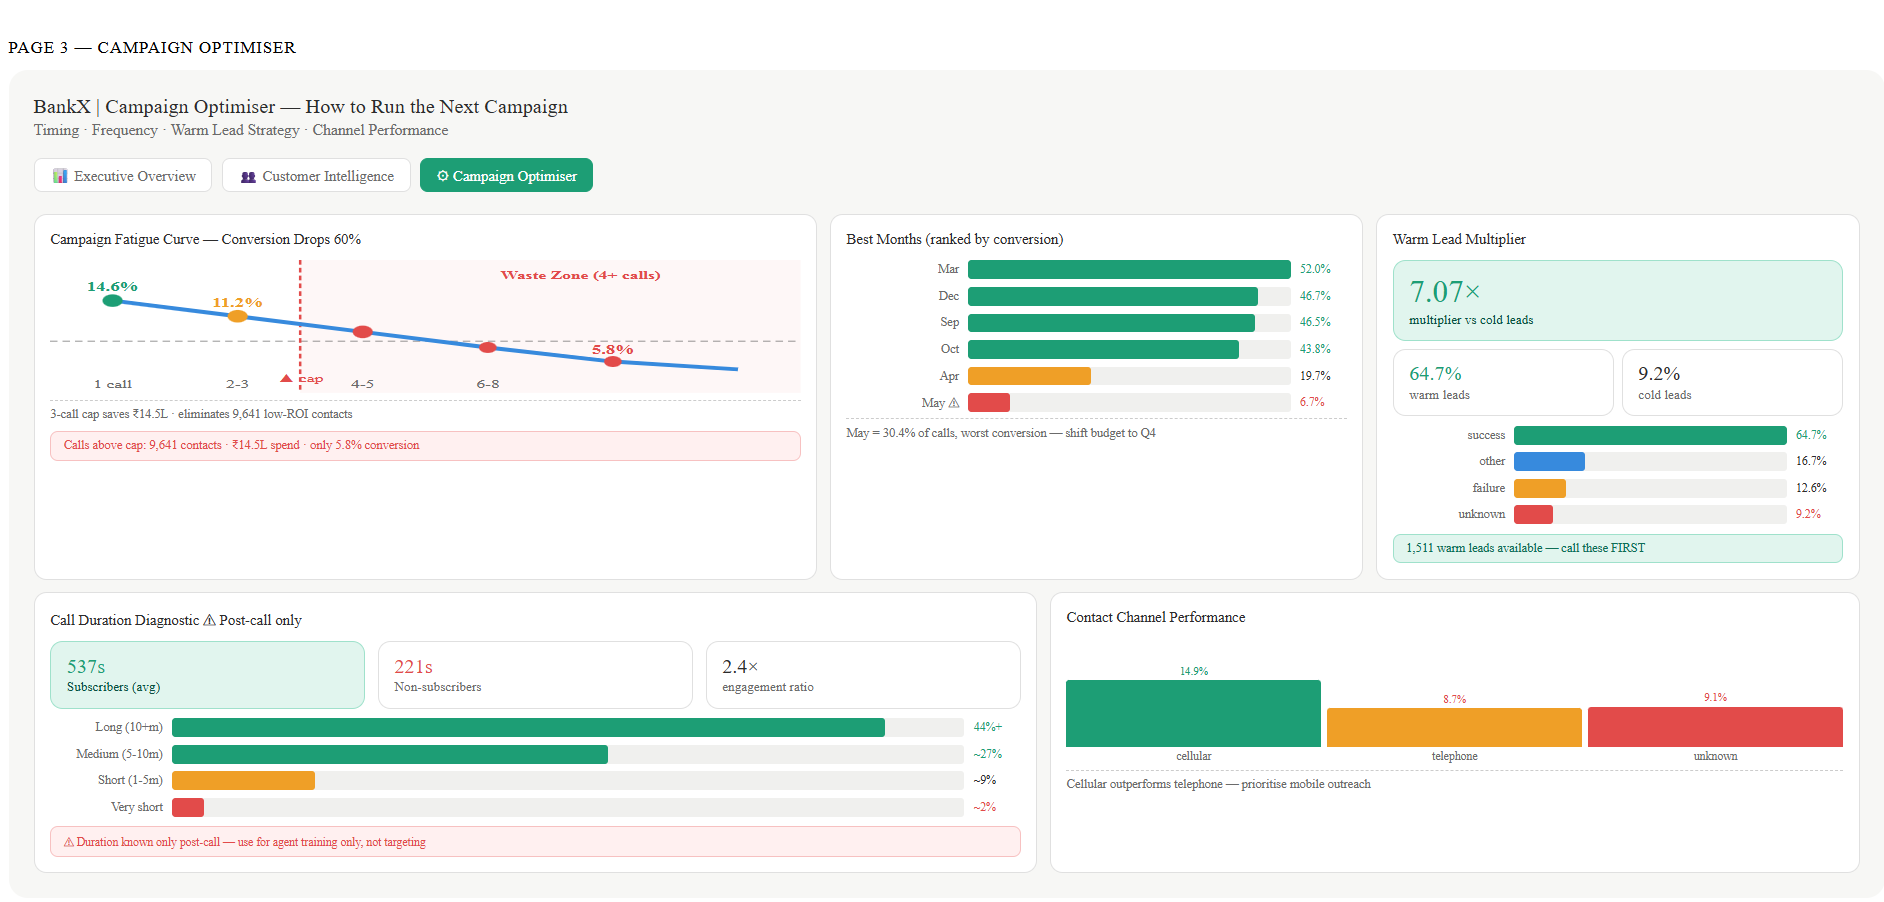

This screenshot's page, from the dashboard's own definition file:
{"tool":"powerbi","page":{"name":"Campaign Optimiser","canvas":[1280,720],"ordinal":2},"visuals":[{"type":"textbox","box":[9.6,35.7,649.1,34.3],"z":0},{"type":"textbox","box":[0,0,811,35.7],"z":1},{"type":"lineChart","fields":{"Category":["bank_analysis.campaign"],"Y":["_Measures.Segment Conversion Rate %"]},"box":[9.6,130.4,367.8,260.7],"z":2},{"type":"clusteredColumnChart","fields":{"Category":["bank_analysis.contact_frequency_band"],"Y":["_Measures.Segment Conversion Rate %"]},"box":[467.9,130.4,402.1,281.3],"z":3},{"type":"clusteredBarChart","fields":{"Category":["monthly_summary.month"],"Y":["CountNonNull(monthly_summary.Conversion_Rate_Pct)"]},"box":[1.4,439.1,384.2,281.3],"z":4},{"type":"kpi","fields":{"Indicator":["_Measures.Avg Duration Subscribers"]},"box":[418.5,470.7,208.6,81],"z":5},{"type":"kpi","fields":{"Indicator":["_Measures.Warm Lead Conversion Rate %"]},"box":[639.5,470.7,208.6,81],"z":6},{"type":"kpi","fields":{"Indicator":["_Measures.Warm Lead Multiplier"]},"box":[639.5,565.4,208.6,81],"z":7},{"type":"clusteredBarChart","fields":{"Category":["bank_analysis.poutcome"],"Y":["_Measures.Segment Conversion Rate %"]},"box":[927.6,109.8,282.7,281.3],"z":8},{"type":"kpi","fields":{"Indicator":["_Measures.Avg Duration Non-Subscribers"]},"box":[418.5,580.4,208.6,81],"z":9},{"type":"clusteredColumnChart","fields":{"Category":["bank_analysis.contact"],"Y":["_Measures.Segment Conversion Rate %"]},"box":[927.6,447.3,284,208.6],"z":10},{"type":"pageNavigator","box":[0,60.4,686.1,49.4],"z":11}]}

Visuals, with their boxes on the page's 1280x720 design canvas (x1, y1, x2, y2). These are canvas units, not pixel positions in the 1884x902 screenshot, which may show the page scaled, cropped or inside an application window:
textbox: (10, 36, 659, 70)
textbox: (0, 0, 811, 36)
lineChart - bank_analysis.campaign x _Measures.Segment Conversion Rate %: (10, 130, 377, 391)
clusteredColumnChart - bank_analysis.contact_frequency_band x _Measures.Segment Conversion Rate %: (468, 130, 870, 412)
clusteredBarChart - monthly_summary.month x CountNonNull(monthly_summary.Conversion_Rate_Pct): (1, 439, 386, 720)
kpi - _Measures.Avg Duration Subscribers: (418, 471, 627, 552)
kpi - _Measures.Warm Lead Conversion Rate %: (640, 471, 848, 552)
kpi - _Measures.Warm Lead Multiplier: (640, 565, 848, 646)
clusteredBarChart - bank_analysis.poutcome x _Measures.Segment Conversion Rate %: (928, 110, 1210, 391)
kpi - _Measures.Avg Duration Non-Subscribers: (418, 580, 627, 661)
clusteredColumnChart - bank_analysis.contact x _Measures.Segment Conversion Rate %: (928, 447, 1212, 656)
pageNavigator: (0, 60, 686, 110)
